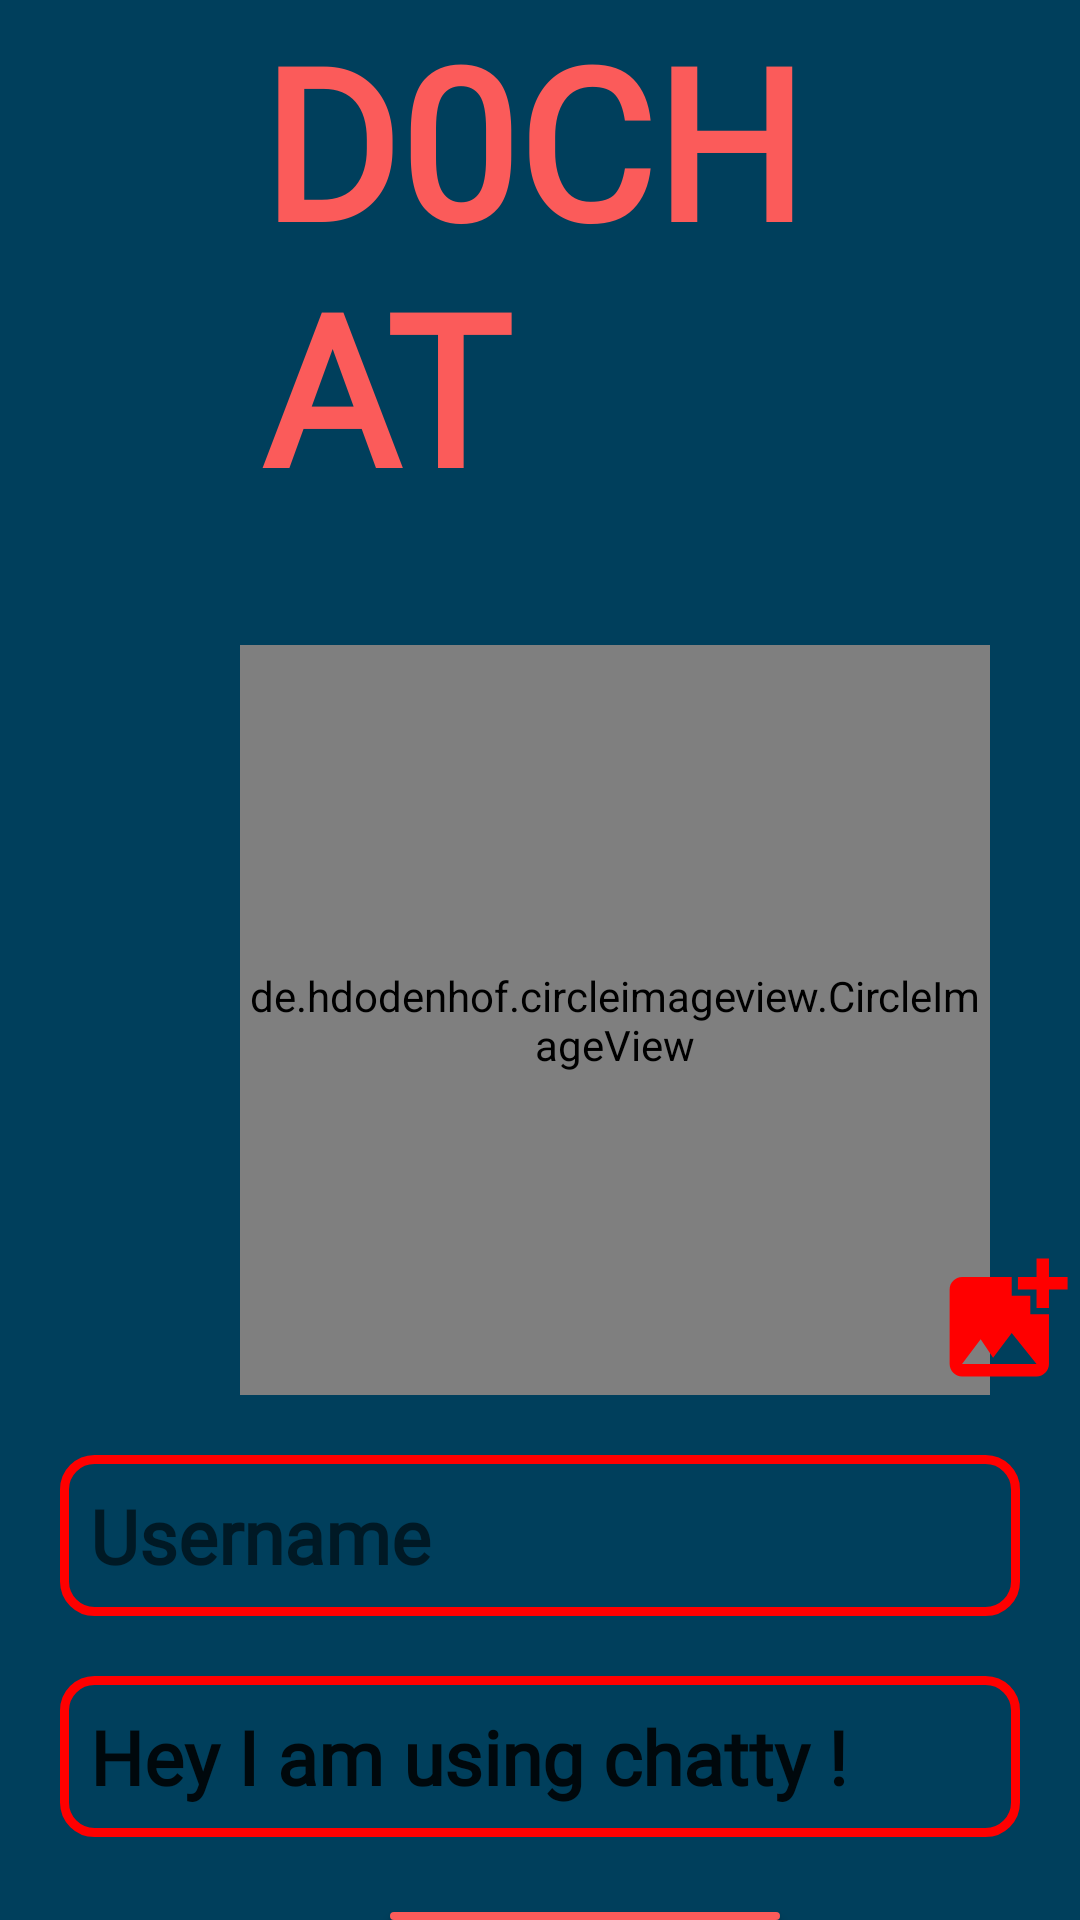

Icons on this 1080px×1920px Android screen, each with the point to tap as (x,y):
add: (1005,1320)
